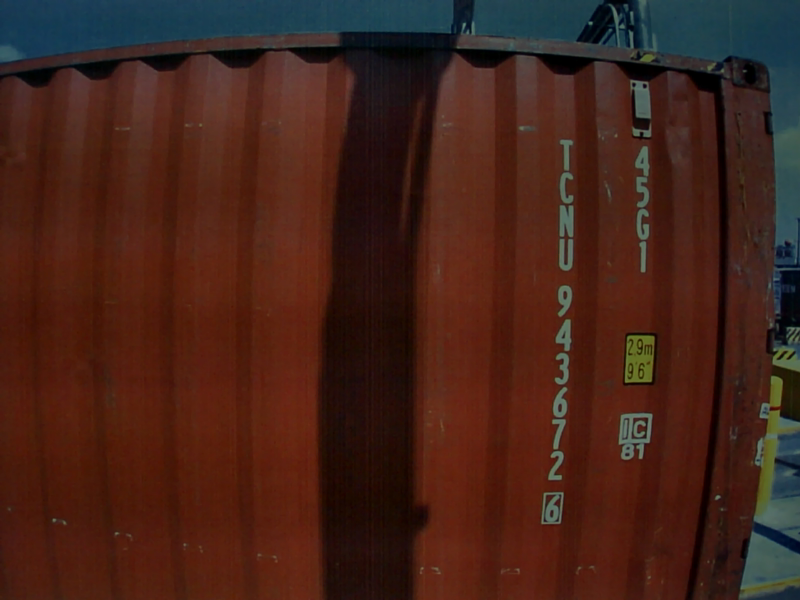container_no_door: (23, 69, 715, 600)
